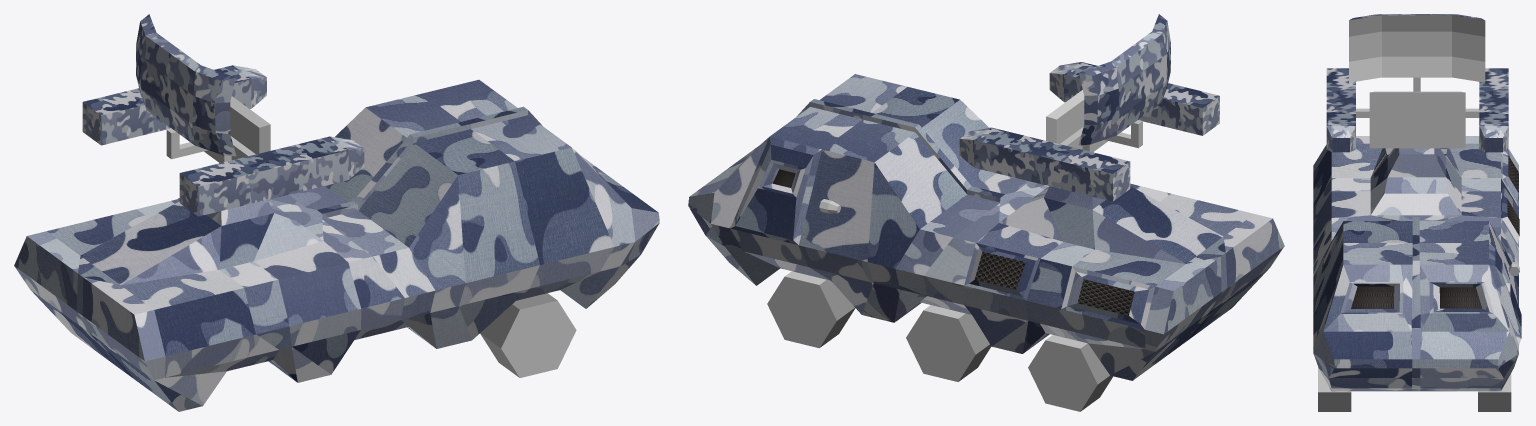
Rendered from bmp.fbx.
3 views of the same model, side by side, from view 1: azimuth 30°, elevation 25°; view 2: azimuth 150°, elevation 25°; view 3: azimuth 270°, elevation 25° (orthographic). The views are drawn at different scales.
Visible parts, largest first — view 1: bmp, Gun2, Locator, Wheel_005, Gun1, Gun; view 2: bmp, Gun1, Locator, Wheel, Wheel_001, Wheel_002, Gun2, Gun; view 3: bmp, Locator, Gun, Gun1, Gun2, Wheel_005, Wheel.
Boxes of the visible parts, bbox=[...] form: bmp: bbox=[14, 79, 659, 411]; Gun2: bbox=[179, 136, 364, 216]; Locator: bbox=[136, 14, 236, 156]; Wheel_005: bbox=[480, 293, 576, 377]; Gun1: bbox=[82, 65, 266, 145]; Gun: bbox=[166, 96, 270, 163]; bmp: bbox=[688, 74, 1284, 380]; Gun1: bbox=[959, 127, 1130, 201]; Locator: bbox=[1078, 14, 1170, 145]; Wheel: bbox=[767, 271, 855, 348]; Wheel_001: bbox=[906, 305, 991, 381]; Wheel_002: bbox=[1028, 335, 1113, 411]; Gun2: bbox=[1049, 62, 1219, 135]; Gun: bbox=[1046, 90, 1142, 152]; bmp: bbox=[1313, 136, 1521, 391]; Locator: bbox=[1349, 14, 1485, 82]; Gun: bbox=[1356, 77, 1479, 148]; Gun1: bbox=[1479, 68, 1508, 152]; Gun2: bbox=[1326, 68, 1355, 152]; Wheel_005: bbox=[1318, 367, 1351, 411]; Wheel: bbox=[1478, 373, 1511, 411].
Size of the model in its own units: 14 by 8.87 by 6.07.
